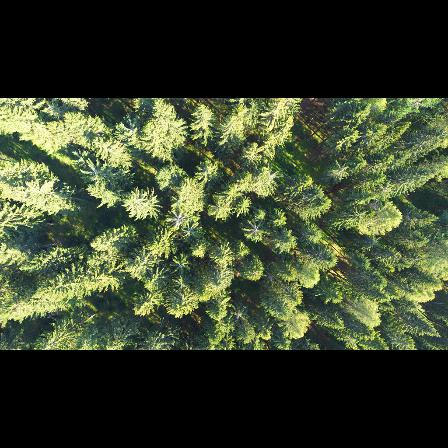Sick: (81, 161, 113, 187), (165, 207, 190, 232), (243, 220, 269, 243), (182, 221, 203, 243), (230, 306, 250, 327)
